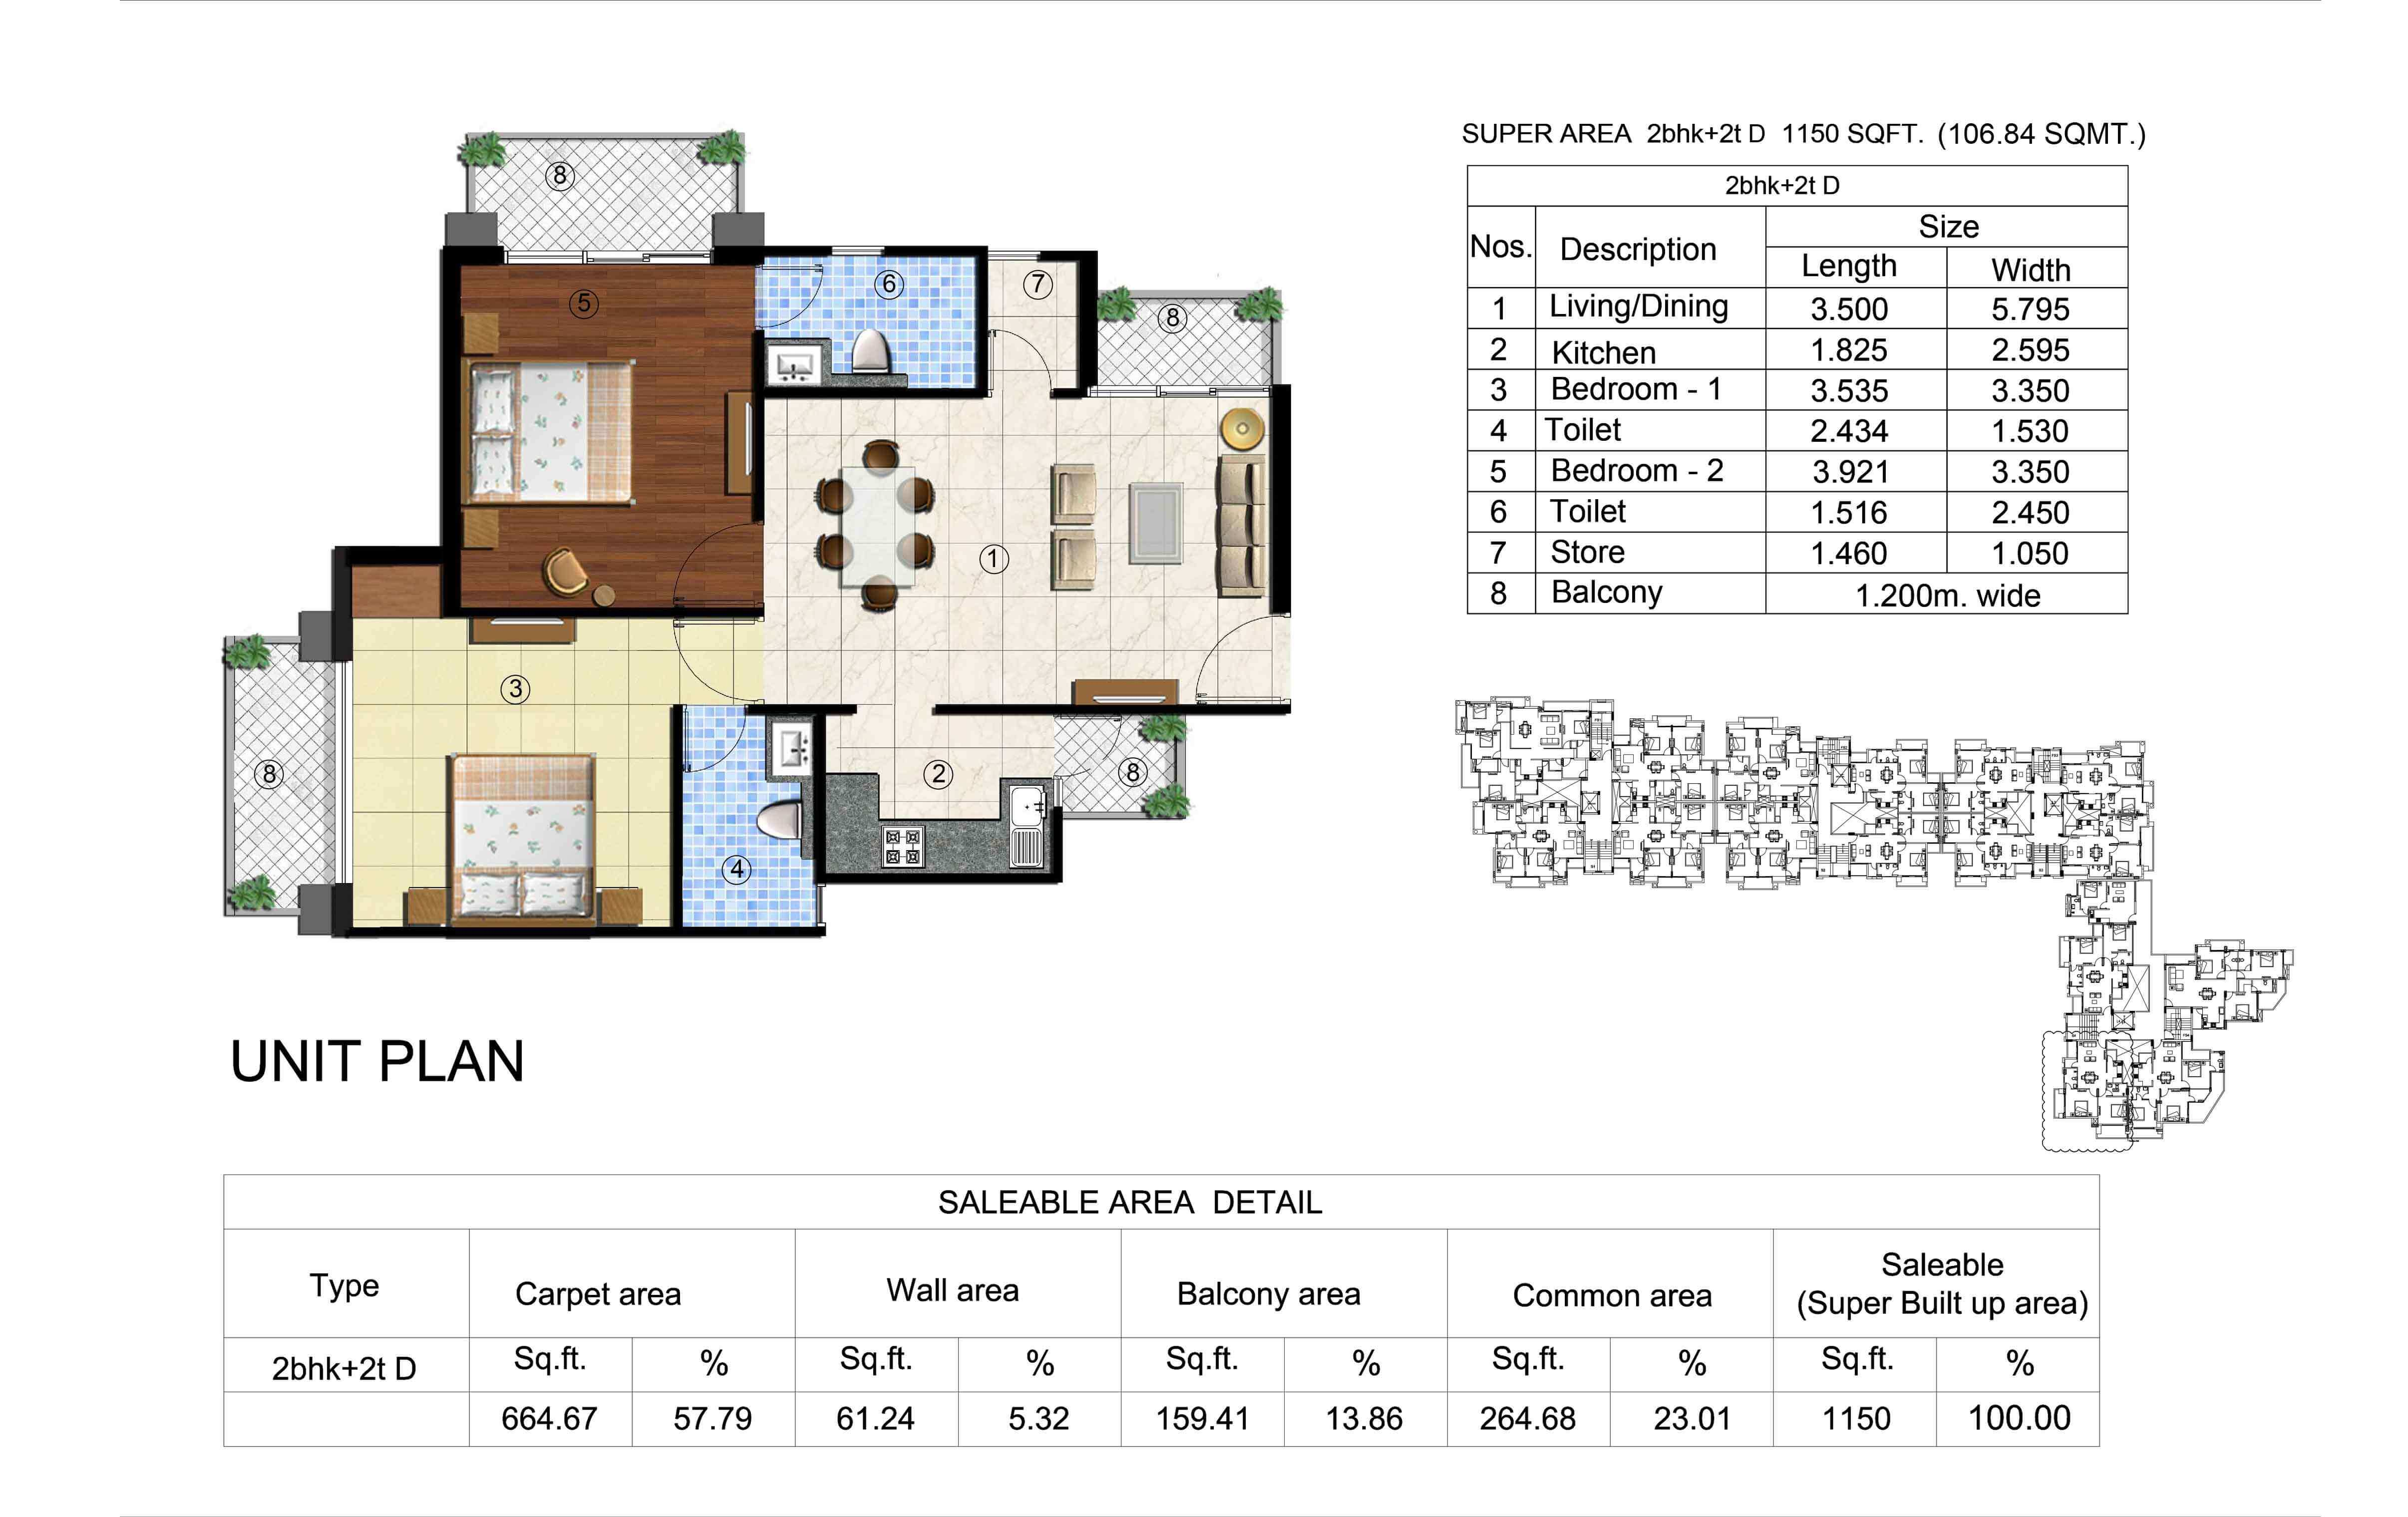window: (332, 657, 356, 886), (502, 248, 718, 266), (1087, 384, 1274, 402), (984, 248, 1043, 266), (830, 243, 888, 260)
